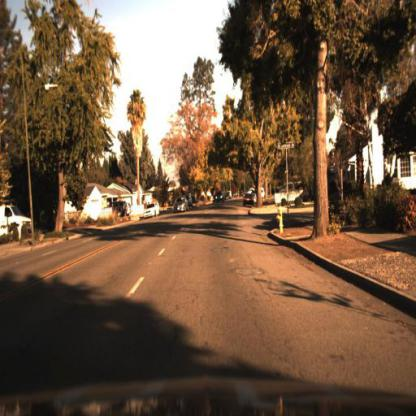car: (1, 200, 33, 241), (143, 199, 161, 220), (173, 194, 188, 217), (113, 201, 130, 219), (215, 189, 228, 203), (187, 192, 194, 213), (244, 194, 254, 207)
